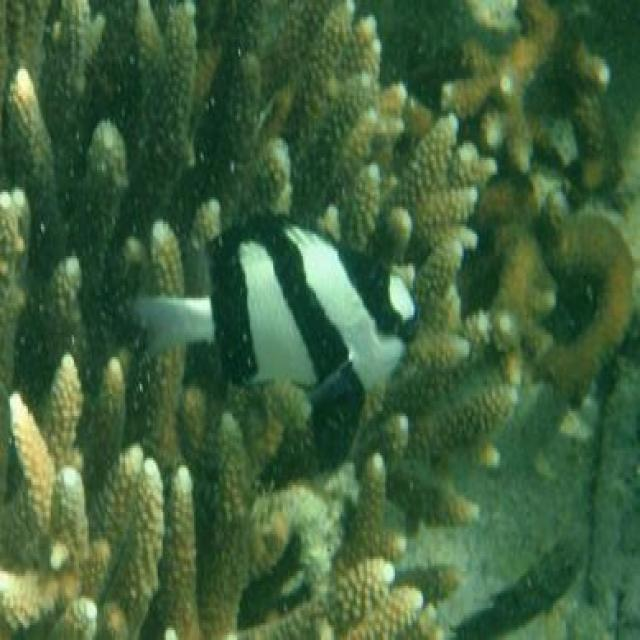ThreeStripedDamselfish: (133, 219, 417, 471)
